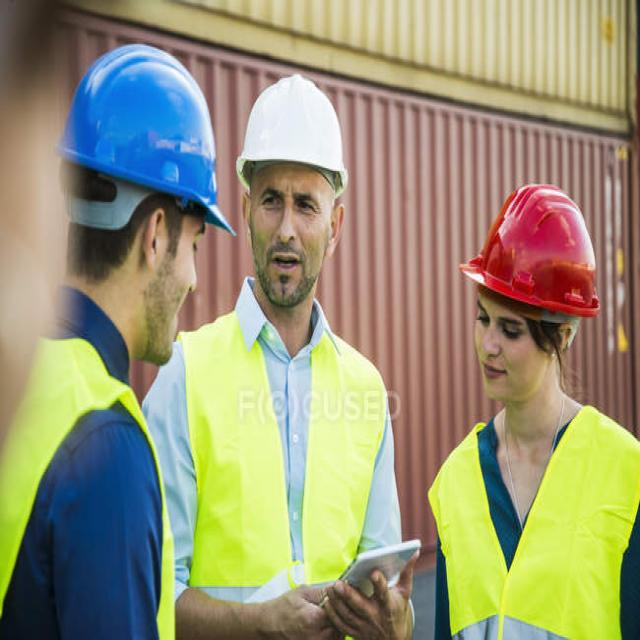Reflective-Jacket: (170, 302, 391, 612), (428, 402, 638, 640), (3, 333, 164, 639)
Safety-Helmet: (51, 38, 236, 236), (458, 174, 605, 326), (234, 68, 354, 194)
